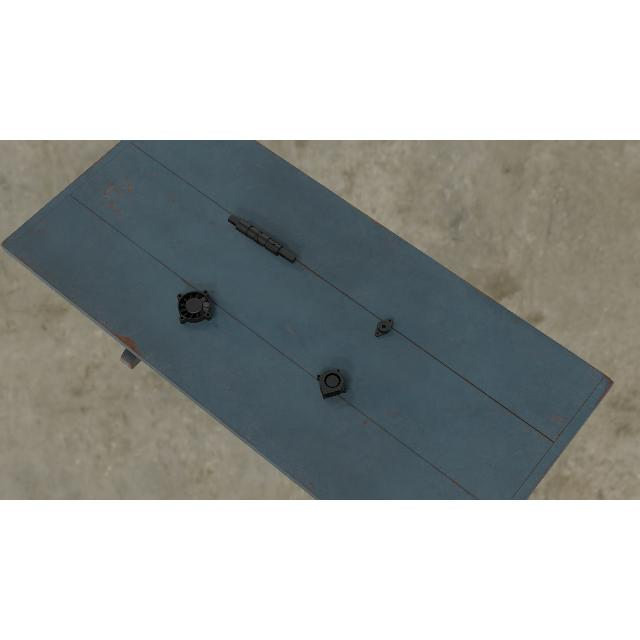Pieza1: (226, 210, 298, 268)
Pieza2: (371, 314, 397, 340)
Pieza3: (316, 366, 348, 399)
Pieza4: (176, 289, 212, 325)
